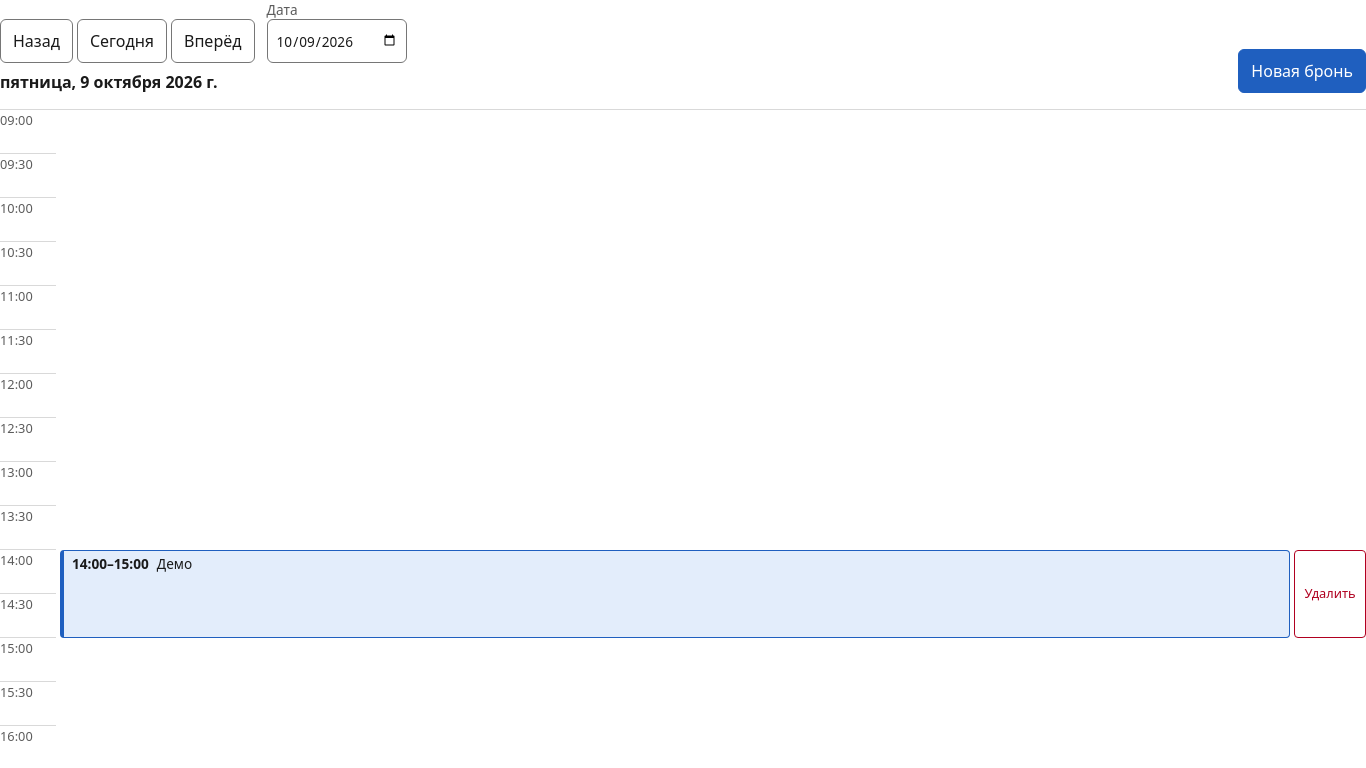
Test: Удаление: кнопка и подтверждение (F6, B11, A2) › F6, A2: «Отмена» закрывает диалог без DELETE, бронь на месте, фокус на кнопке «Удалить» этой брони
Click the button with aria-label "Удалить бронь 14:00–15:00": (1330, 594) [1294,550,1365,638]
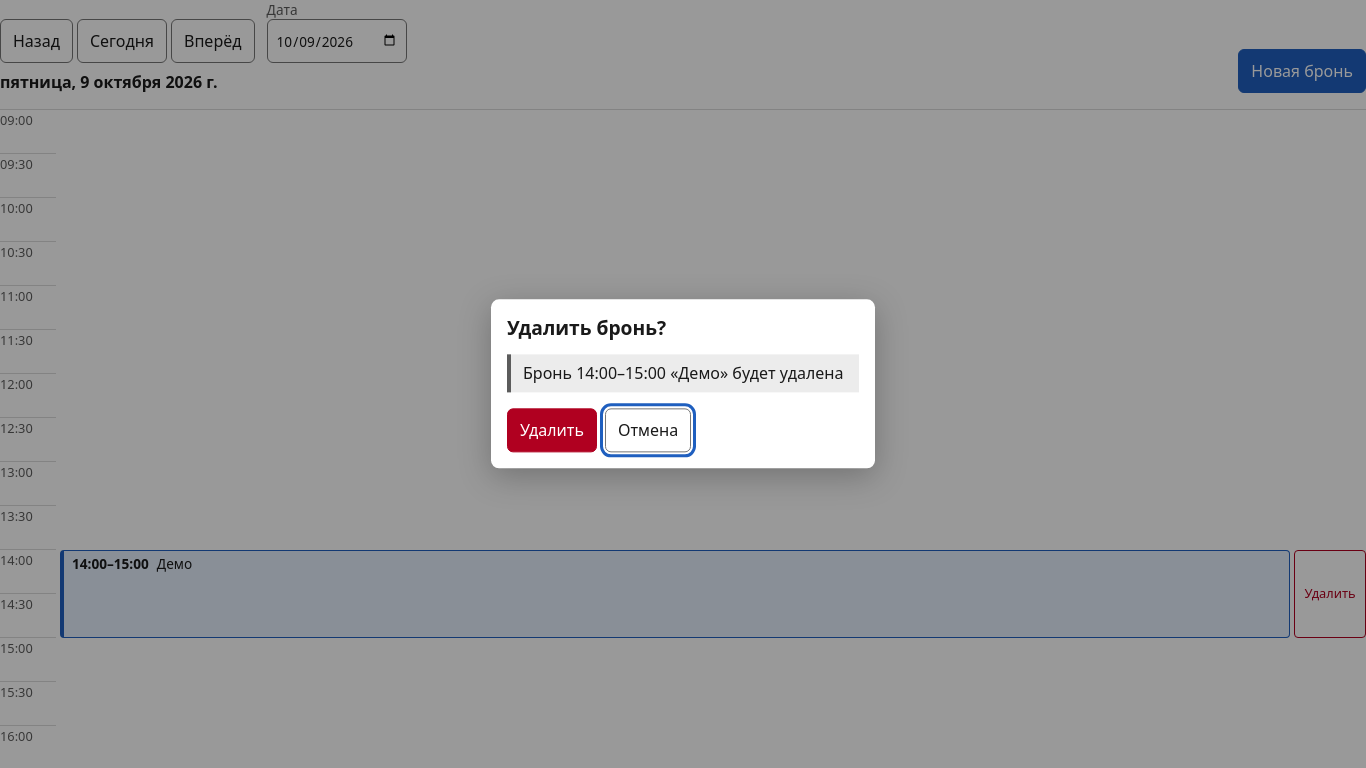
Result: the dialog "Удалить бронь?" is shown at [491,299,875,469]
Click the button "Отмена": (648, 431) [605,409,691,453]
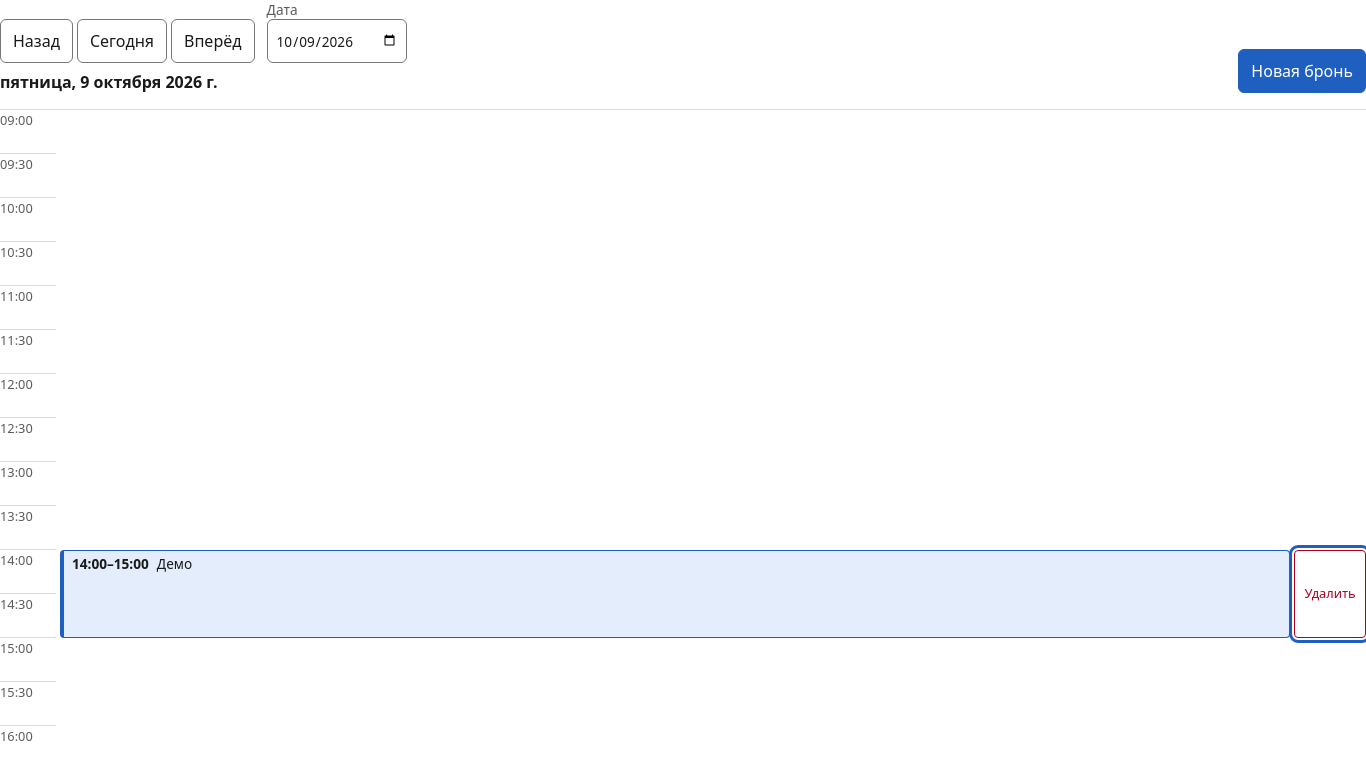
Result: the dialog is gone
